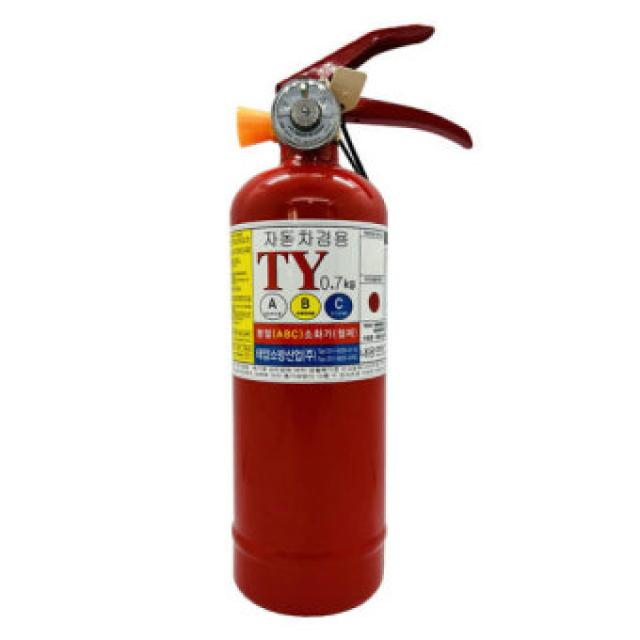pressure gauge: (271, 79, 339, 149)
